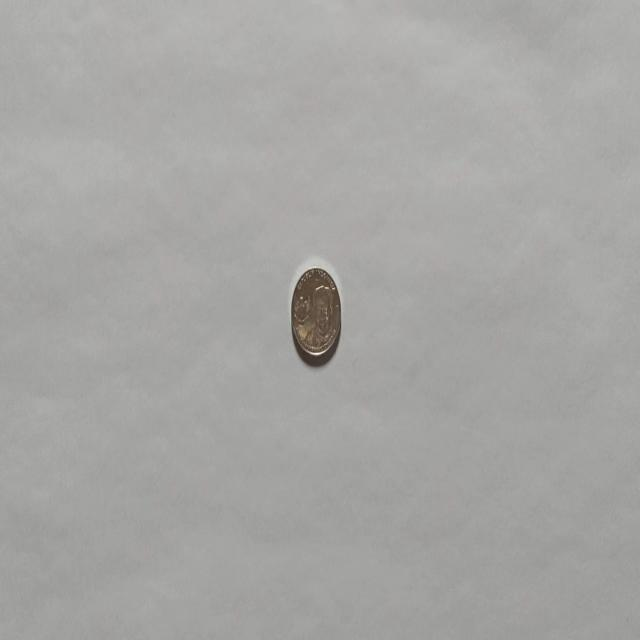seratus rupiah: (290, 265, 342, 361)
